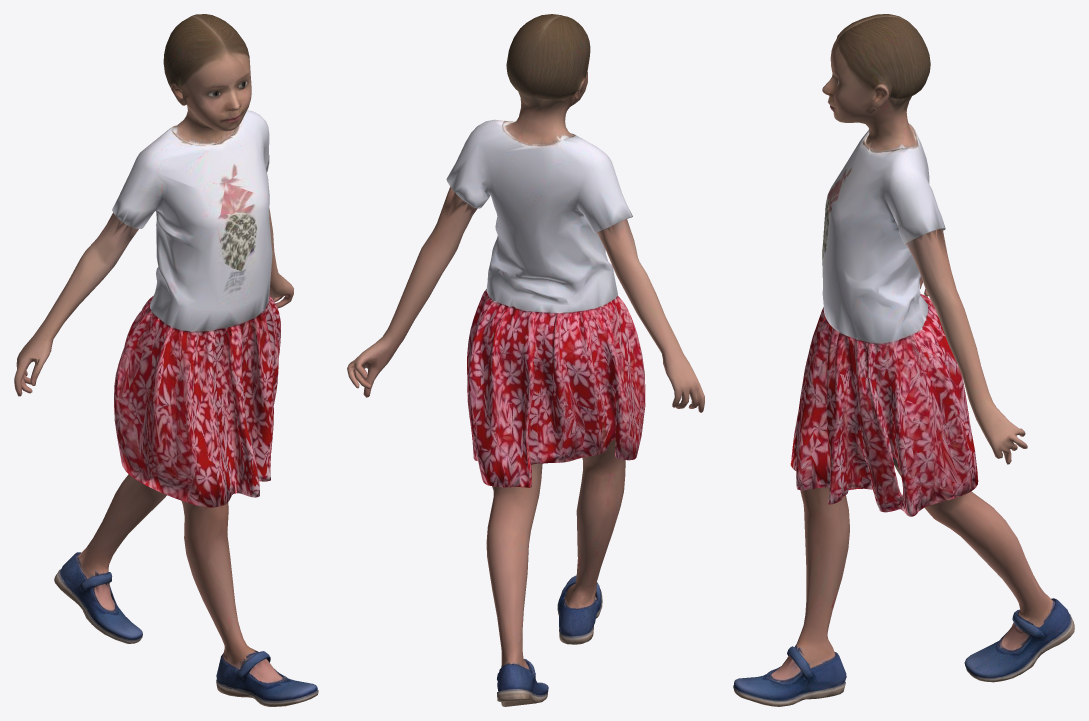
The model's file is girl-near.glb.
The picture shows the model from 3 angles, left to right: view 1: azimuth 30°, elevation 25°; view 2: azimuth 150°, elevation 25°; view 3: azimuth 270°, elevation 25°; orthographic projection. The views are drawn at different scales.
Parts seen in each view (by area): view 1: Mesh_0; view 2: Mesh_0; view 3: Mesh_0.
Boxes of the visible parts, x1,y1,x2,y2 form: Mesh_0: (14, 14, 318, 706); Mesh_0: (347, 14, 704, 706); Mesh_0: (733, 14, 1074, 706).
Bounding box in the file's own units: 0.9684 × 1.9 × 0.8742.
Materials: 1 (1 with a texture image).
